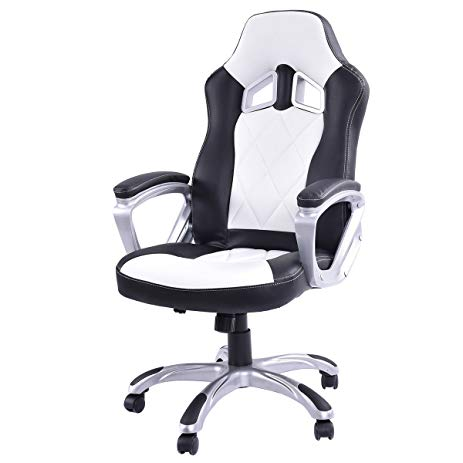chairs: (109, 3, 371, 456)
